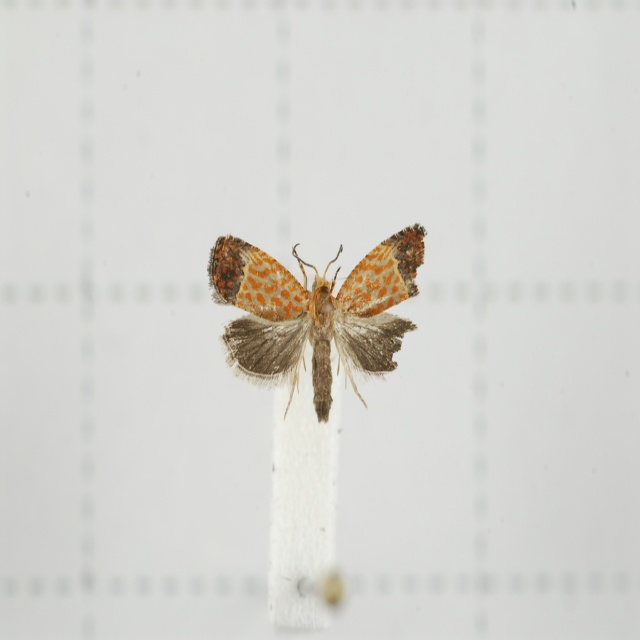Butterfly: (198, 216, 431, 414)
